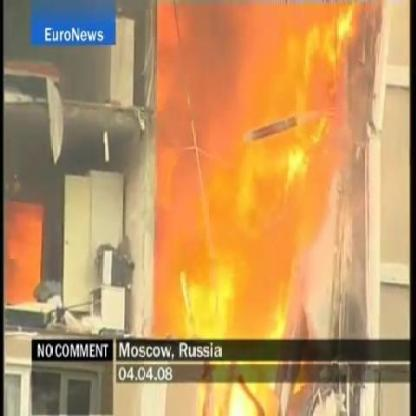fire: (156, 0, 389, 340), (5, 197, 44, 308)
